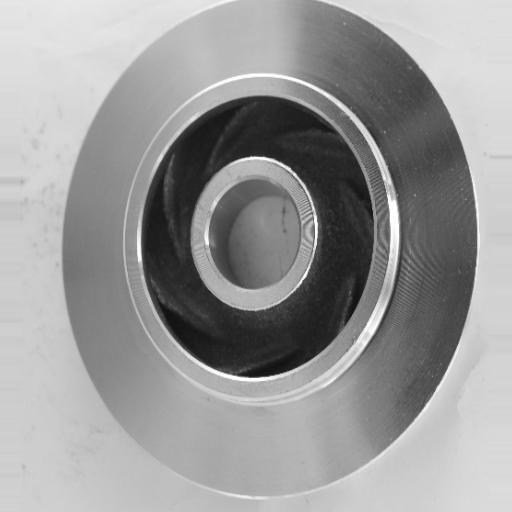polished_casting: (63, 0, 481, 499)
